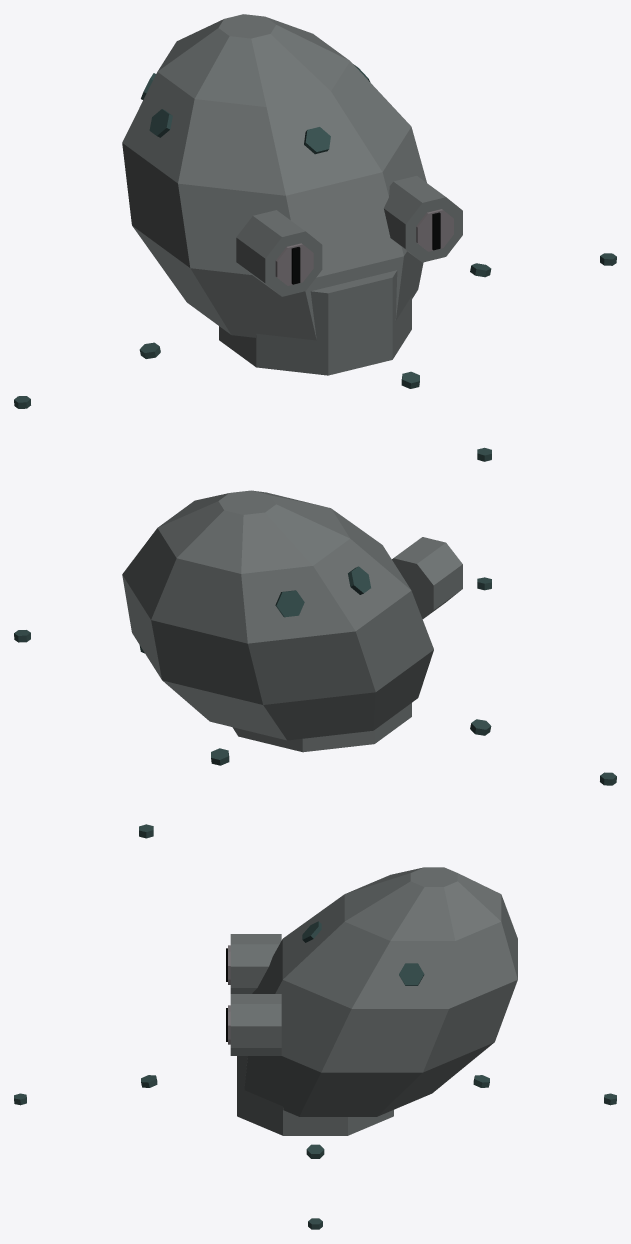
Rendered from octopus.glb.
The picture shows the model from 3 angles, top to bottom: view 1: azimuth 30°, elevation 25°; view 2: azimuth 150°, elevation 25°; view 3: azimuth 270°, elevation 25°; orthographic projection. The views are drawn at different scales.
Parts seen in each view (by area): view 1: OctopusBody; view 2: OctopusBody; view 3: OctopusBody.
Boxes of the visible parts, left/top/right/bottom form: OctopusBody: left=14, top=14, right=616, bottom=461; OctopusBody: left=14, top=490, right=616, bottom=838; OctopusBody: left=14, top=867, right=616, bottom=1229.
Size of the model in its own units: 0.2132 by 0.088 by 0.2132.
